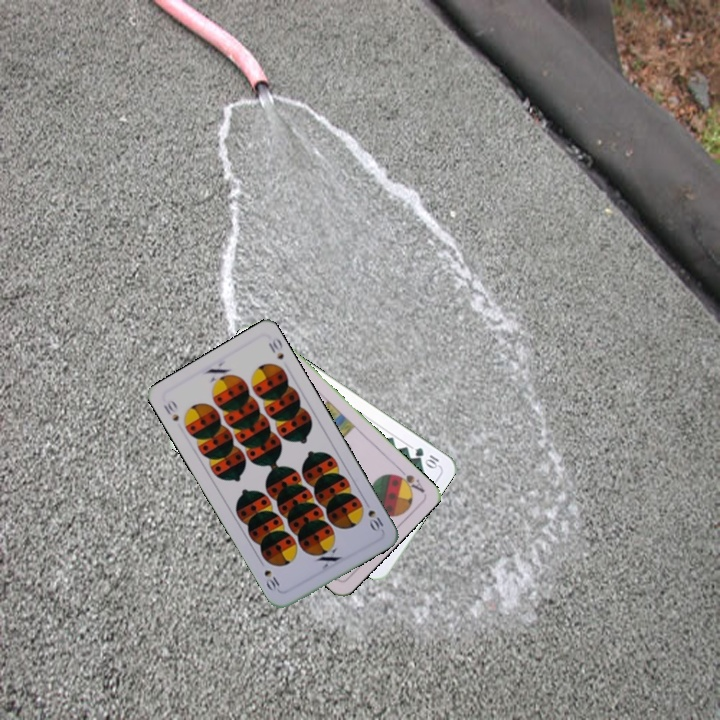G10: (410, 443, 442, 471)
S10: (360, 496, 387, 535), (159, 396, 182, 424)
SA: (390, 463, 427, 495)
